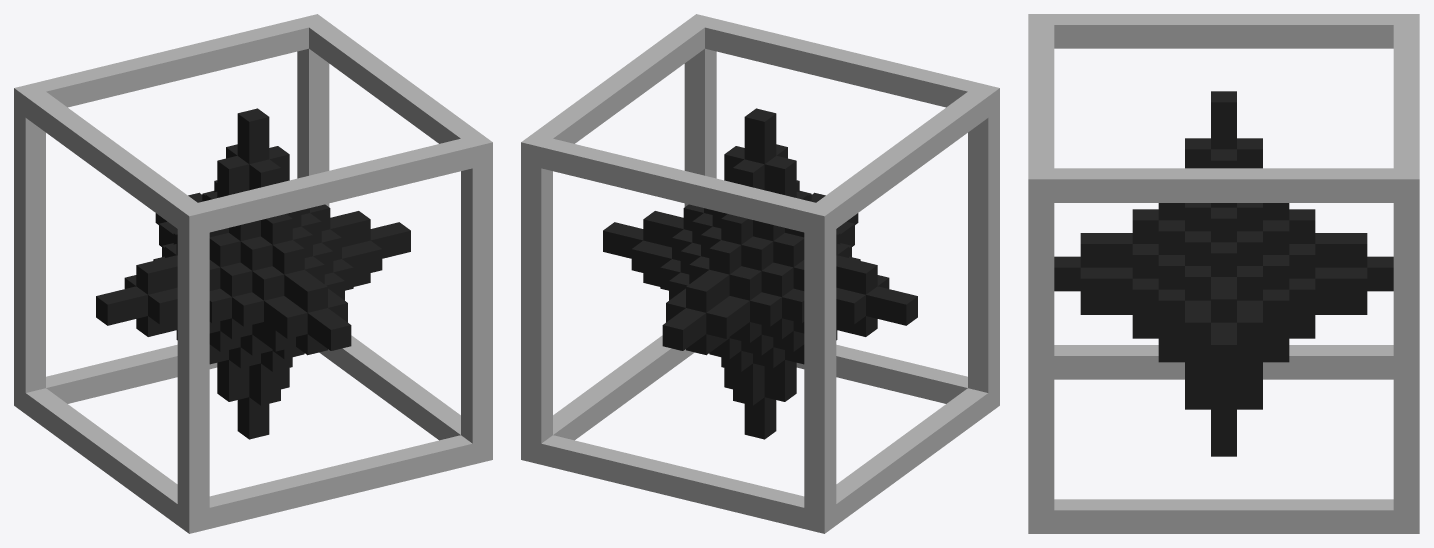
Rendered from core-black.obj.
The picture shows the model from 3 angles, left to right: view 1: azimuth 30°, elevation 25°; view 2: azimuth 150°, elevation 25°; view 3: azimuth 270°, elevation 25°; orthographic projection. The views are drawn at different scales.
Bounding box in the file's own units: 1.5 × 1.5 × 1.5.
Materials: 1 (1 with a texture image).
